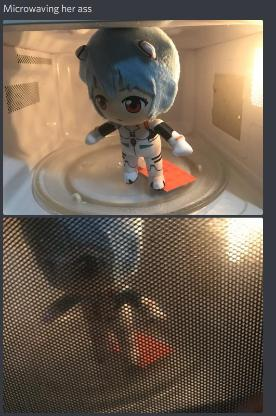rei-plush: (14, 209, 180, 379), (75, 27, 203, 202)
